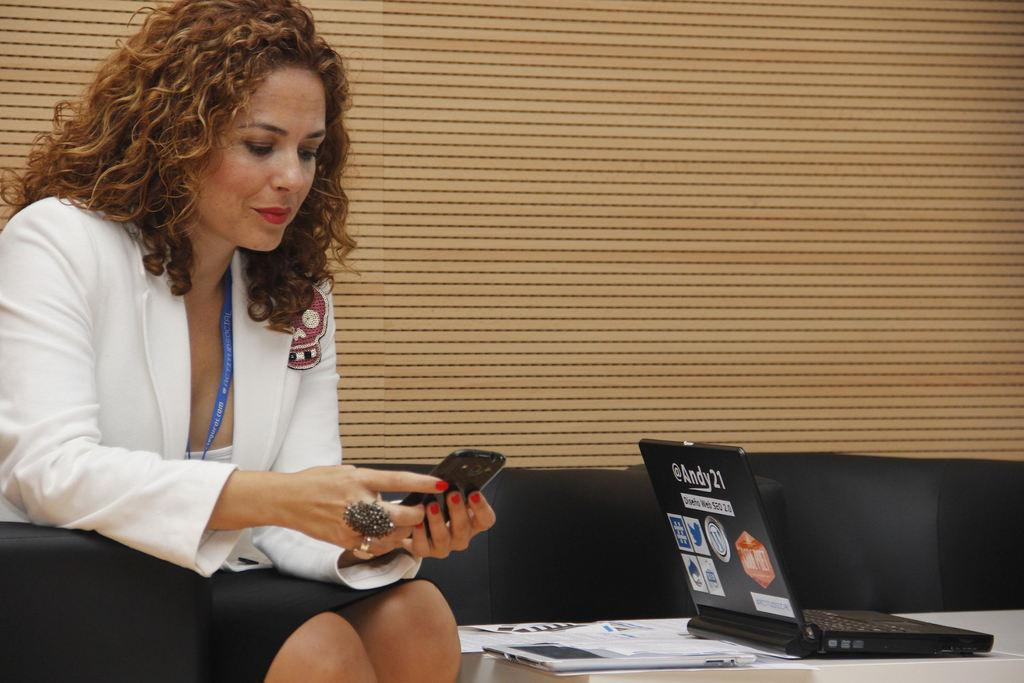Laptop: (655, 436, 1013, 683)
